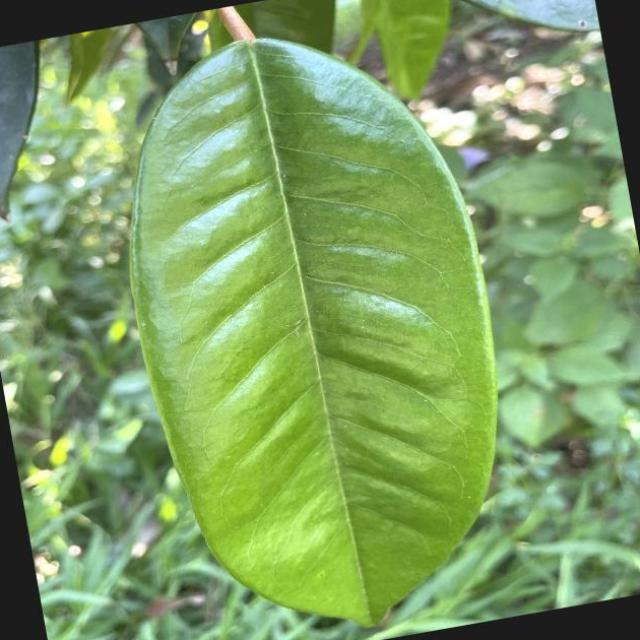No Disease: (79, 0, 552, 640)
